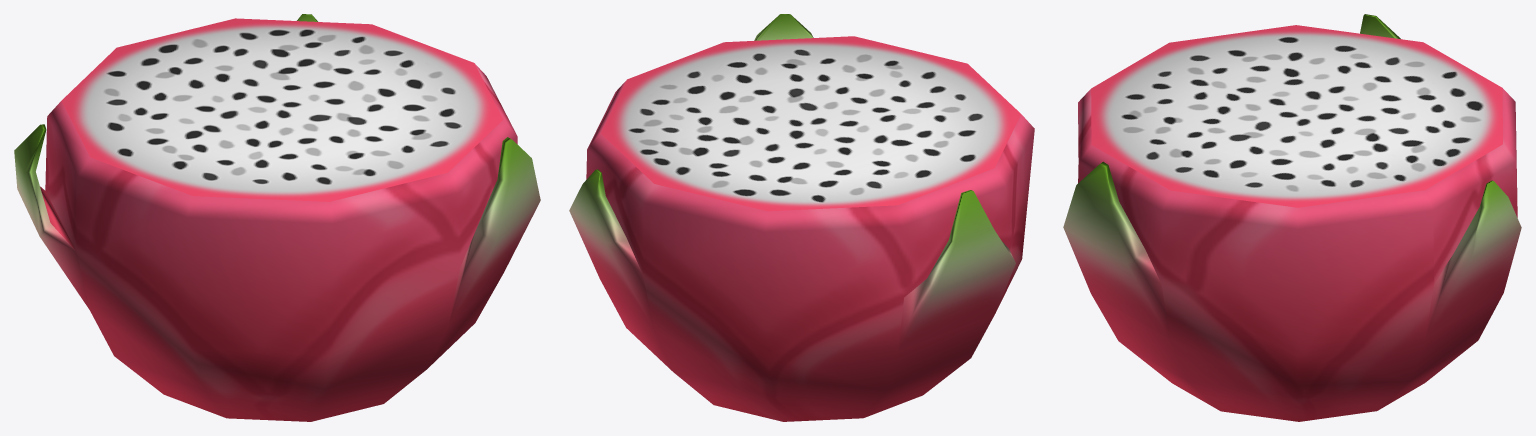
File: Dragonfruit_Half.fbx
The picture shows the model from 3 angles, left to right: view 1: azimuth 30°, elevation 25°; view 2: azimuth 150°, elevation 25°; view 3: azimuth 270°, elevation 25°; orthographic projection. The views are drawn at different scales.
Parts seen in each view (by area): view 1: Dragonfruit_Half; view 2: Dragonfruit_Half; view 3: Dragonfruit_Half.
Part boxes in pixels (x1=…): Dragonfruit_Half: x1=14, y1=14, x2=540, y2=421; Dragonfruit_Half: x1=569, y1=14, x2=1034, y2=421; Dragonfruit_Half: x1=1063, y1=14, x2=1521, y2=421.
Bounding box in the file's own units: 38.51 × 26.49 × 36.21.
